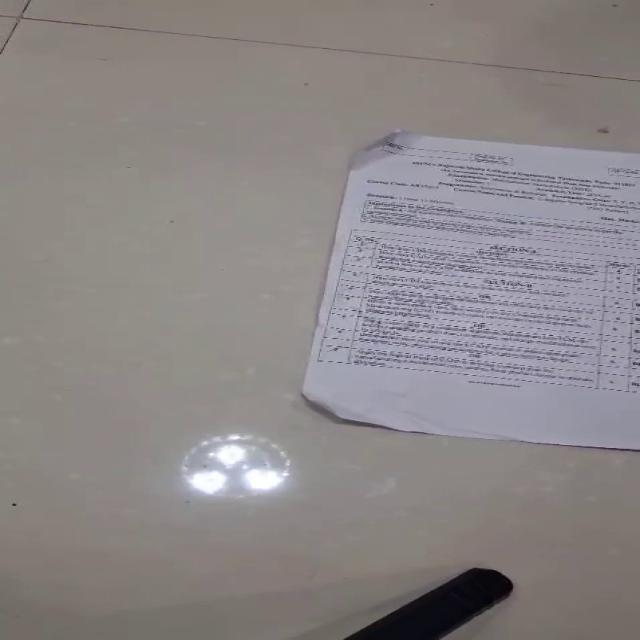paper: (300, 129, 639, 450)
